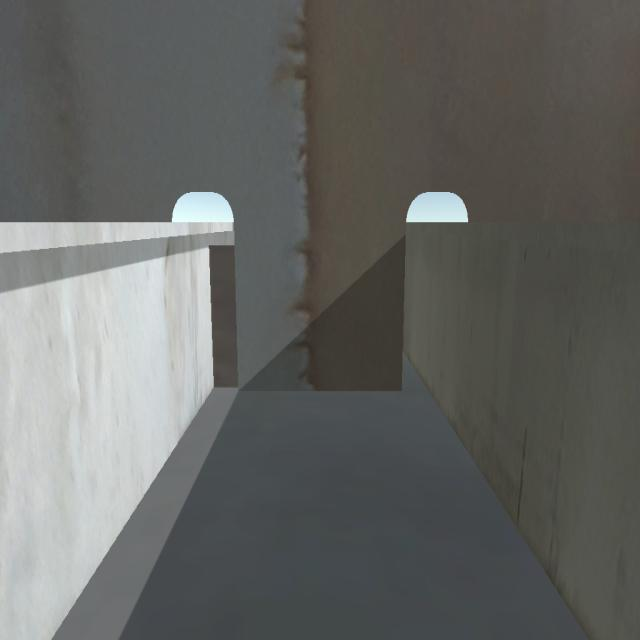fillet_yong_jeop_jang: (215, 383, 400, 391)
longi_yong_jeop_jang: (210, 246, 238, 386), (207, 238, 214, 391)
